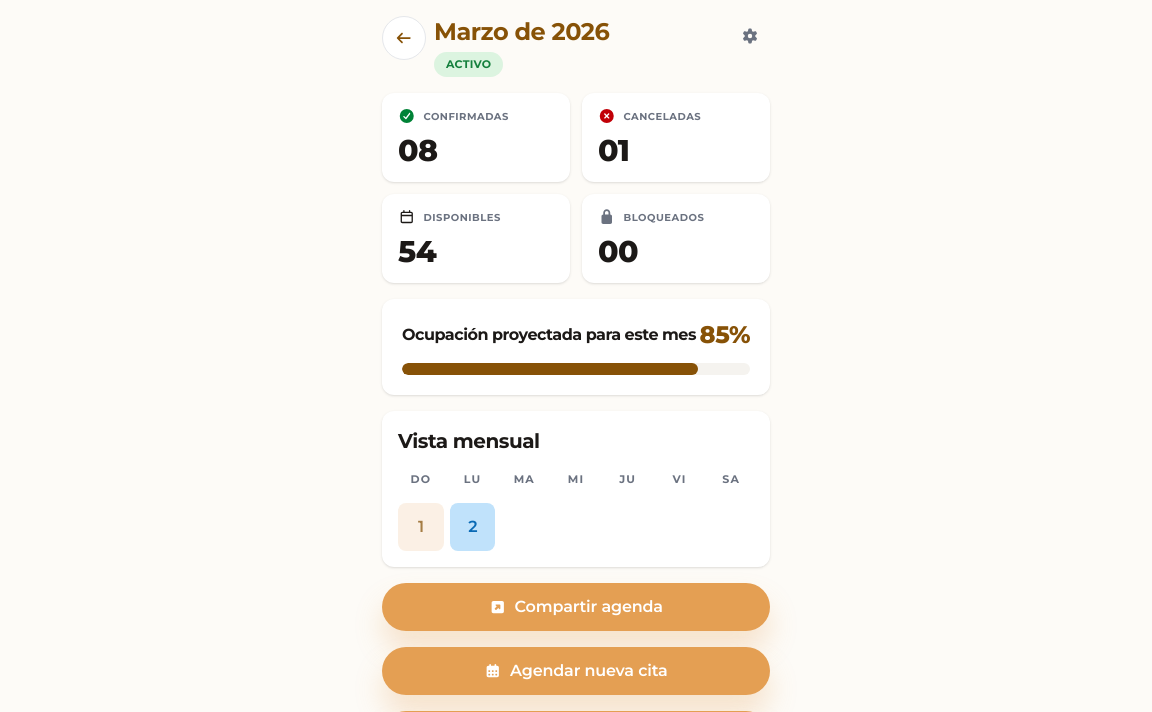
Test: MonthDetailView › renders slot mode options with SECOND_ONLY_MODE first
Click the button named "Modalidad".
click(750, 36)  # box [730,16,770,56]
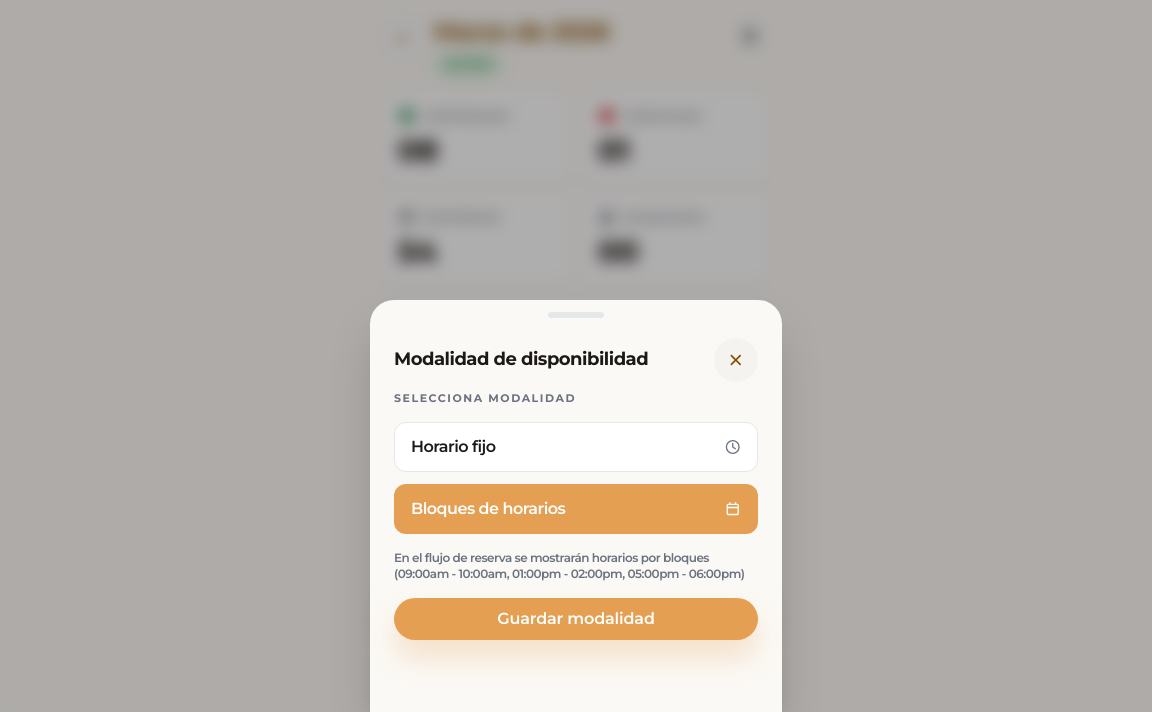
Check: the button "Horario fijo" is shown, box [394,422,758,472]
Check: the button "Bloques de horarios" is shown, box [394,484,758,534]
